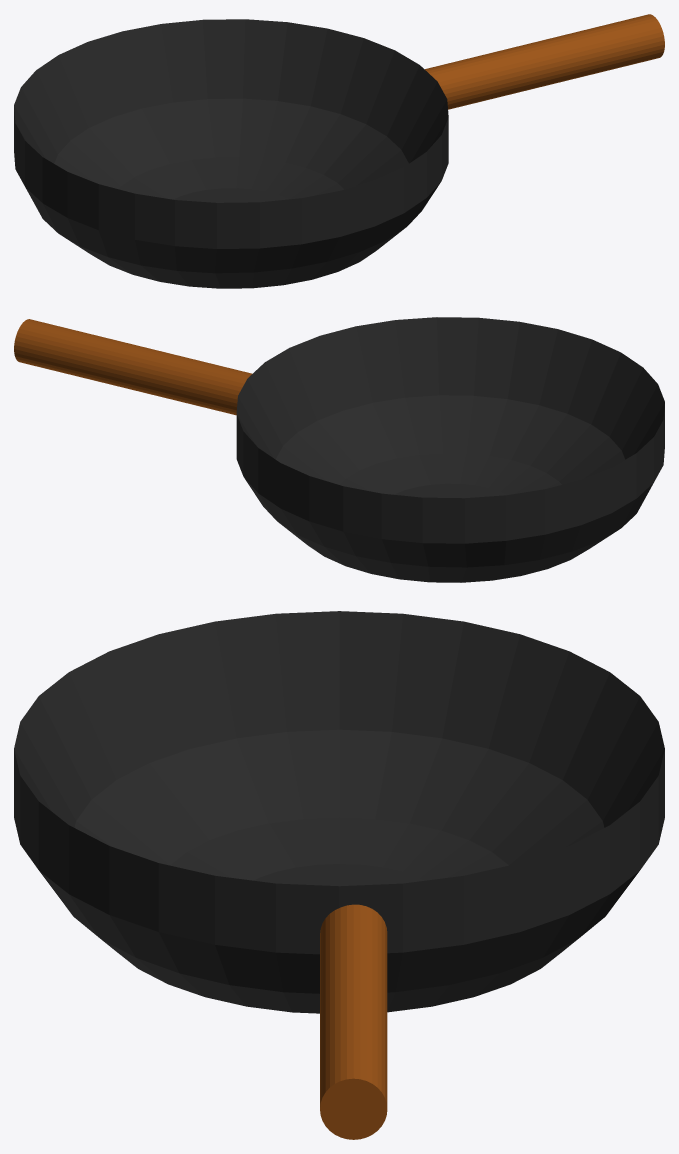
The model's file is wok.fbx.
3 views of the same model, one above another, from view 1: azimuth 30°, elevation 25°; view 2: azimuth 150°, elevation 25°; view 3: azimuth 270°, elevation 25° (orthographic). The views are drawn at different scales.
Visible parts, largest first — view 1: Cylinder.003; view 2: Cylinder.003; view 3: Cylinder.003.
Part boxes in pixels (<box>): Cylinder.003: <box>14,14,664,288</box>; Cylinder.003: <box>14,317,664,582</box>; Cylinder.003: <box>14,611,664,1139</box>.
Bounding box in the file's own units: 122 × 21.8 × 74.75.
